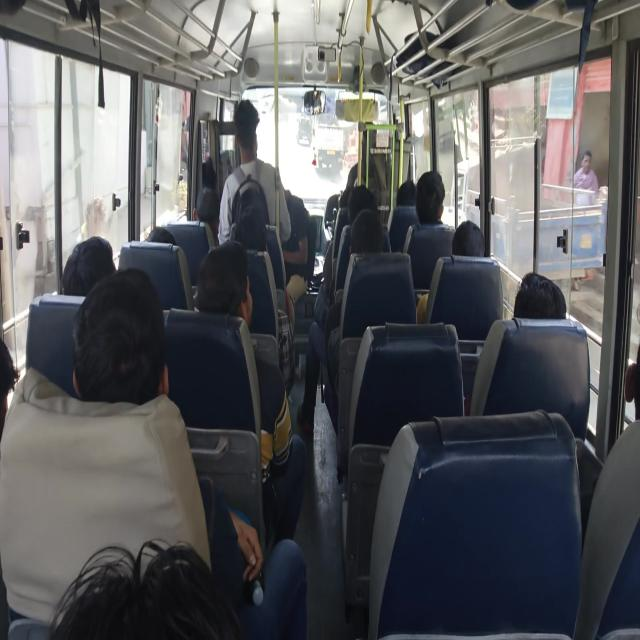person: (71, 266, 307, 638), (195, 239, 308, 543), (296, 208, 385, 434), (48, 536, 242, 639), (469, 271, 567, 415), (217, 99, 292, 249), (416, 220, 485, 324), (569, 150, 599, 290), (60, 235, 116, 296), (513, 272, 567, 319), (0, 338, 19, 441), (415, 169, 446, 225), (572, 150, 598, 204), (451, 219, 485, 257), (79, 195, 107, 241), (146, 225, 177, 244)
